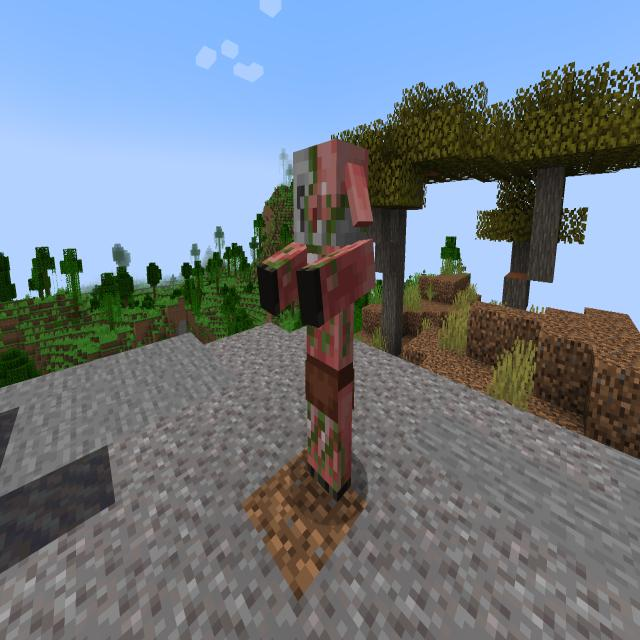Zombified Piglin: (250, 129, 381, 524)
